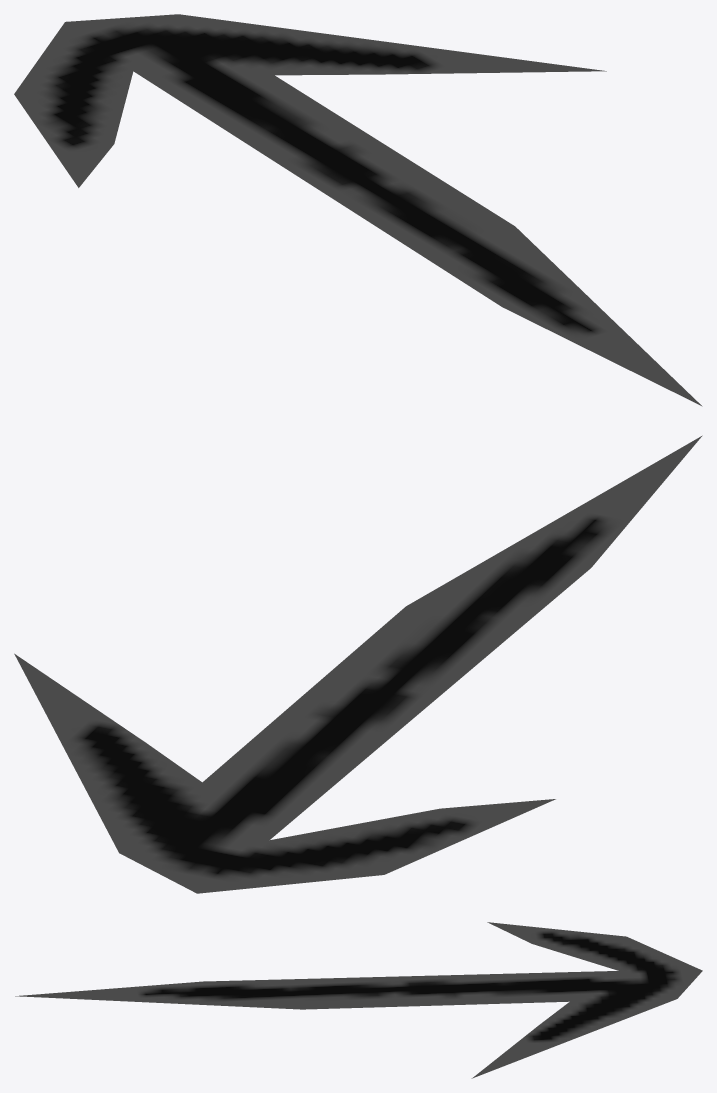
The model's file is rock scratch.fbx.
The picture shows the model from 3 angles, top to bottom: view 1: azimuth 30°, elevation 25°; view 2: azimuth 150°, elevation 25°; view 3: azimuth 270°, elevation 25°; orthographic projection. The views are drawn at different scales.
Visible parts, largest first — view 1: Plane; view 2: Plane; view 3: Plane.
Part boxes in pixels (x1,y1,x2,y2): Plane: (14, 14, 702, 406); Plane: (14, 435, 702, 893); Plane: (15, 922, 702, 1078).
Bounding box in the file's own units: 73.11 × 136 × 0.
